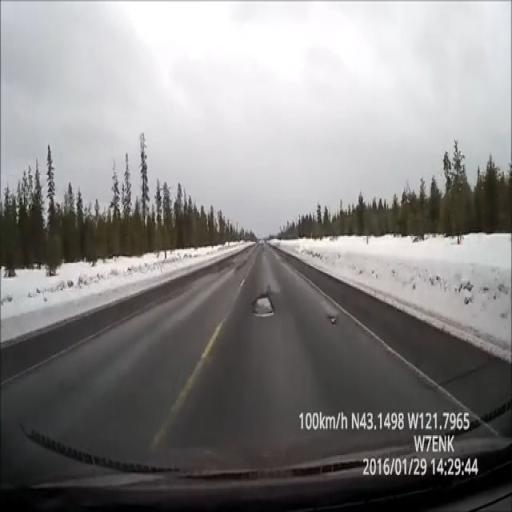Potholes: (252, 286, 274, 316), (328, 316, 335, 323)
